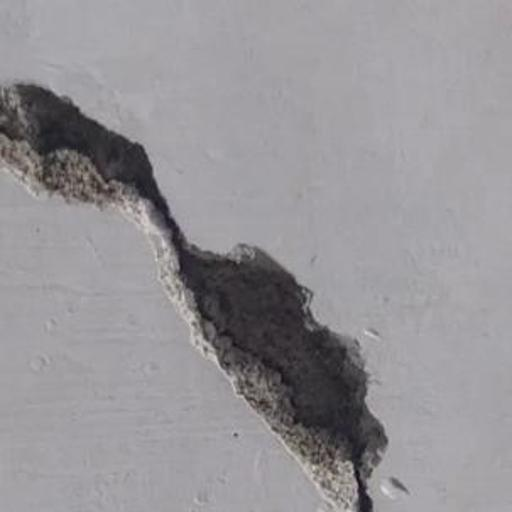spalling: (0, 79, 396, 511)
